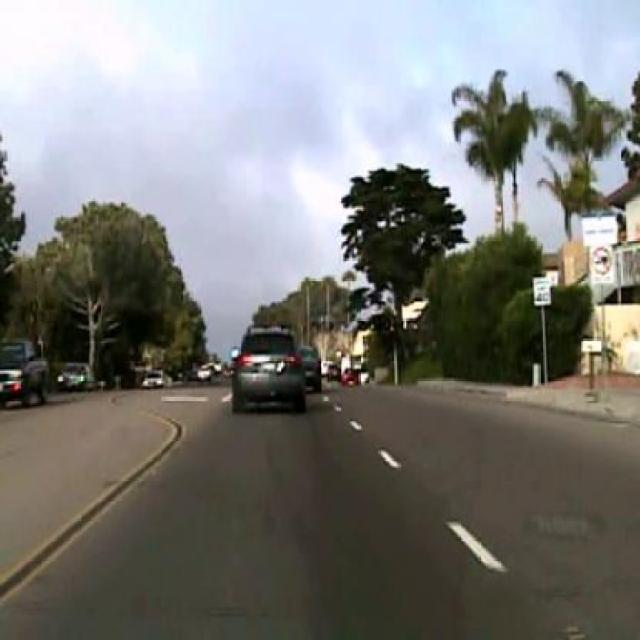speedLimit40: (532, 276, 551, 306)
